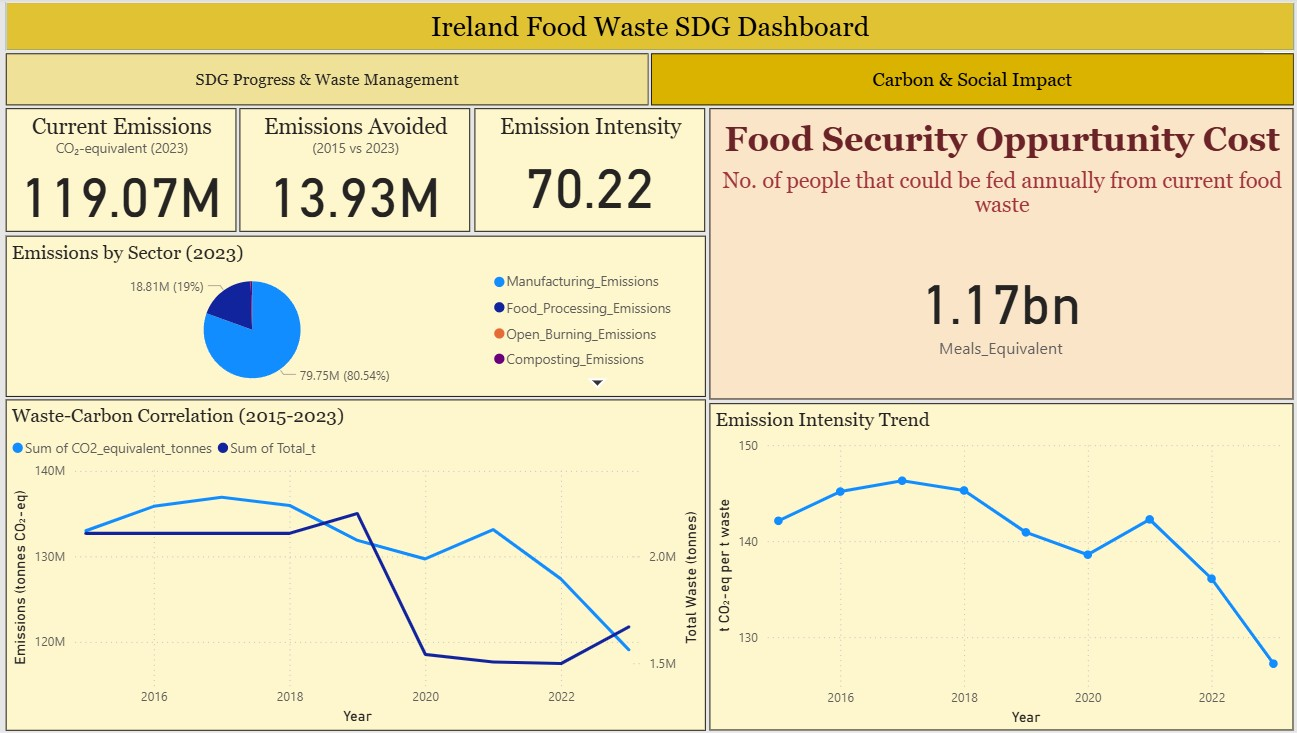

Layout of this report page (visuals, bound fields, positions):
{"tool":"powerbi","page":{"name":"Carbon & Social Impact","canvas":[1280,720],"ordinal":1},"visuals":[{"type":"group","id":"g1","title":"Page 1 layout","box":[0,0,1280.3,720.1],"z":0},{"type":"shape","title":"Background","box":[0,0,1280.3,720.1],"z":0,"group":"g1"},{"type":"shape","title":"Ireland Food Waste SDG Dashboard","box":[8.6,4.9,1260.7,47.7],"z":1000,"group":"g1"},{"type":"card","title":"Current Emissions ","fields":{"Values":["EEA_Ireland_emissions_data.Current_Emissions_tonnes"]},"box":[8.1,108.8,225.7,120.9],"z":1000},{"type":"pageNavigator","box":[8.1,55.1,1260.1,51],"z":2000,"group":"g1"},{"type":"card","title":"Emissions Avoided ","fields":{"Values":["EEA_Ireland_emissions_data.Emissions_Avoided"]},"box":[237.8,108.8,225.7,120.9],"z":2000},{"type":"card","title":"Emission Intensity","fields":{"Values":["EEA_Ireland_emissions_data.Emission_Intensity"]},"box":[467.5,108.8,225.7,120.9],"z":3000},{"type":"lineChart","title":"Waste-Carbon Correlation (2015-2023)","fields":{"Y":["Sum(EEA_Ireland_emissions_data.CO2_equivalent_tonnes)"],"Category":["FAO_Annual_Population.Year"],"Y2":["Sum(food_waste_per_capita.Total_t)"]},"box":[8.6,393.8,684.8,324.1],"z":4000},{"type":"pieChart","title":"Emissions by Sector (2023)","fields":{"Y":["EEA_Ireland_emissions_data.Manufacturing_Emissions","EEA_Ireland_emissions_data.Food_Processing_Emissions","EEA_Ireland_emissions_data.Open_Burning_Emissions","EEA_Ireland_emissions_data.Composting_Emissions","EEA_Ireland_emissions_data.Anaerobic_at_Biogas_Emissions"]},"box":[8.6,233.6,684.8,157.7],"z":5000},{"type":"lineChart","title":"Emission Intensity Trend","fields":{"Y":["EEA_Ireland_emissions_data.Emission_Per_Tonne_Waste"],"Category":["EEA_Ireland_emissions_data.Year"]},"box":[697,397.6,571.1,320.4],"z":6000},{"type":"card","title":"Food Security Oppurtunity Cost","fields":{"Values":["EEA_Ireland_emissions_data.Meals_Equivalent"]},"box":[697,108.8,571.1,284.9],"z":7000}]}

Visuals, with their boxes in screenshot pixels (x1, y1, x2, y2), scaled from the page's 1280x720 canvas onto the 1297x733 screenshot:
"Page 1 layout" group: x1=0 y1=0 x2=1296 y2=732
"Background" shape: x1=0 y1=0 x2=1296 y2=732
"Ireland Food Waste SDG Dashboard" shape: x1=9 y1=5 x2=1286 y2=54
"Current Emissions " card: x1=8 y1=111 x2=237 y2=234
pageNavigator: x1=8 y1=56 x2=1285 y2=108
"Emissions Avoided " card: x1=241 y1=111 x2=470 y2=234
"Emission Intensity" card: x1=474 y1=111 x2=702 y2=234
"Waste-Carbon Correlation (2015-2023)" lineChart: x1=9 y1=401 x2=703 y2=731
"Emissions by Sector (2023)" pieChart: x1=9 y1=238 x2=703 y2=398
"Emission Intensity Trend" lineChart: x1=706 y1=405 x2=1285 y2=731
"Food Security Oppurtunity Cost" card: x1=706 y1=111 x2=1285 y2=401
